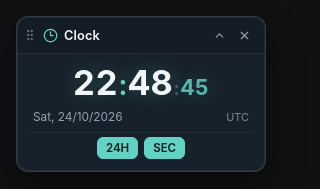
Desktop Float Widgets › ClockWidget Component › toggles 24H and 12H format upon button click
Click the button "24H".
click(118, 148)  # box [97,137,138,159]
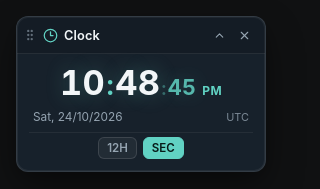
Expected: the button "12H" is shown, [98,137,137,159]
